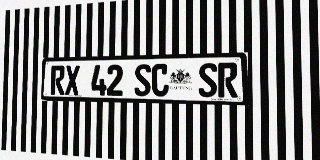2: (107, 64, 123, 96)
4: (91, 65, 107, 96)
C: (151, 64, 169, 97)
R: (218, 62, 238, 98), (51, 65, 65, 95)
S: (198, 63, 217, 97), (134, 64, 151, 96)
X: (65, 65, 80, 95)
